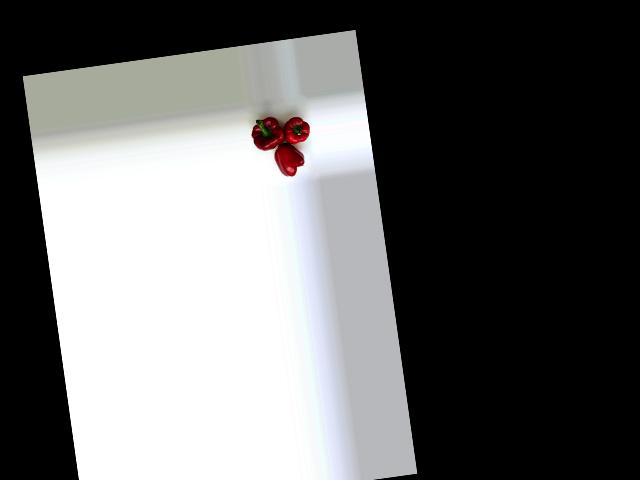bell_pepper: (270, 139, 312, 182)
